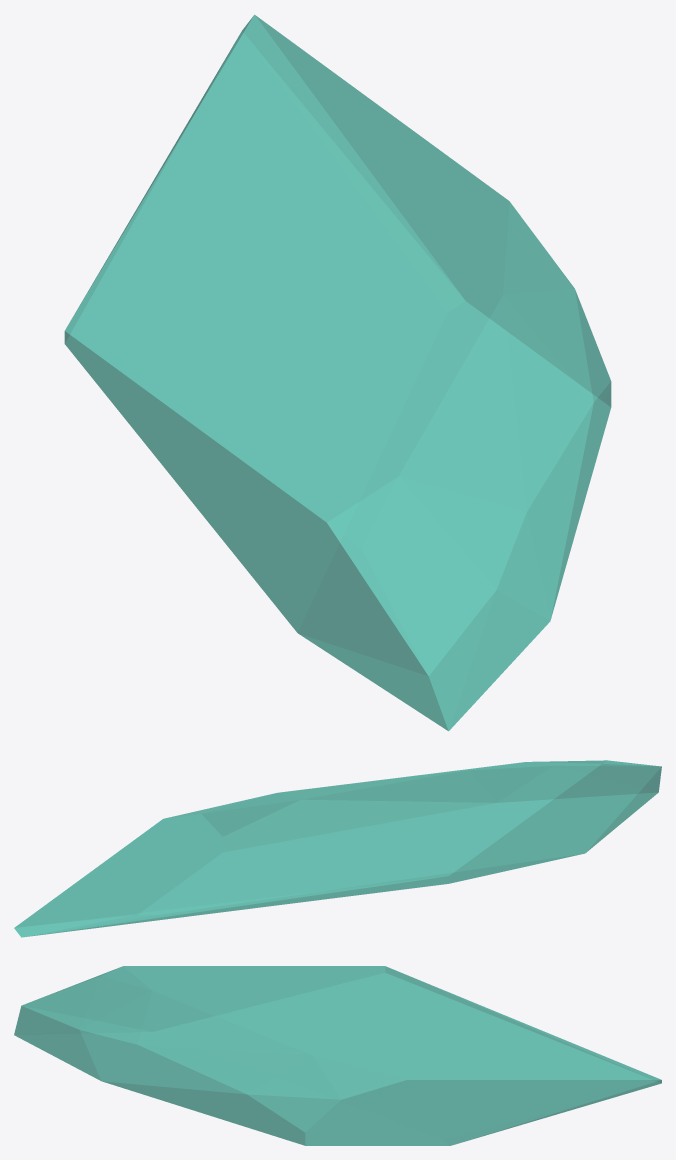
3 views of the same model, one above another, from view 1: azimuth 30°, elevation 25°; view 2: azimuth 150°, elevation 25°; view 3: azimuth 270°, elevation 25° (orthographic). The views are drawn at different scales.
Visible parts, largest first — view 1: Shape_IndexedFaceSet.016_Shape_IndexedFaceSet.7622; view 2: Shape_IndexedFaceSet.016_Shape_IndexedFaceSet.7622; view 3: Shape_IndexedFaceSet.016_Shape_IndexedFaceSet.7622.
Boxes of the visible parts, x1=… form: Shape_IndexedFaceSet.016_Shape_IndexedFaceSet.7622: x1=64, y1=14, x2=611, y2=731; Shape_IndexedFaceSet.016_Shape_IndexedFaceSet.7622: x1=14, y1=760, x2=661, y2=937; Shape_IndexedFaceSet.016_Shape_IndexedFaceSet.7622: x1=14, y1=966, x2=661, y2=1145.
Bounding box in the file's own units: 0.0756 × 0.0204 × 0.182.
